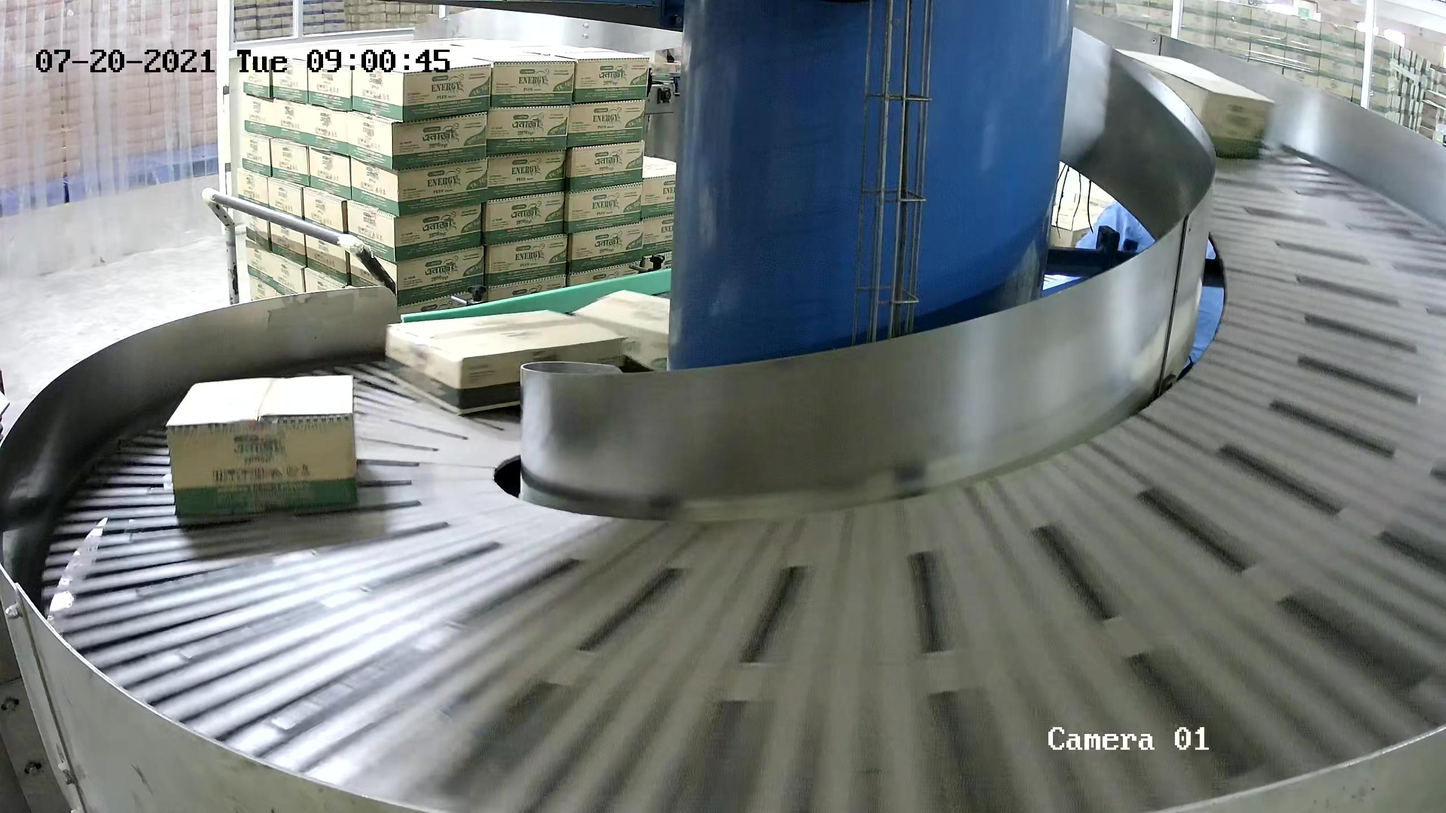Box: (166, 368, 361, 524), (385, 309, 626, 417), (1107, 46, 1273, 162), (568, 289, 708, 387)
